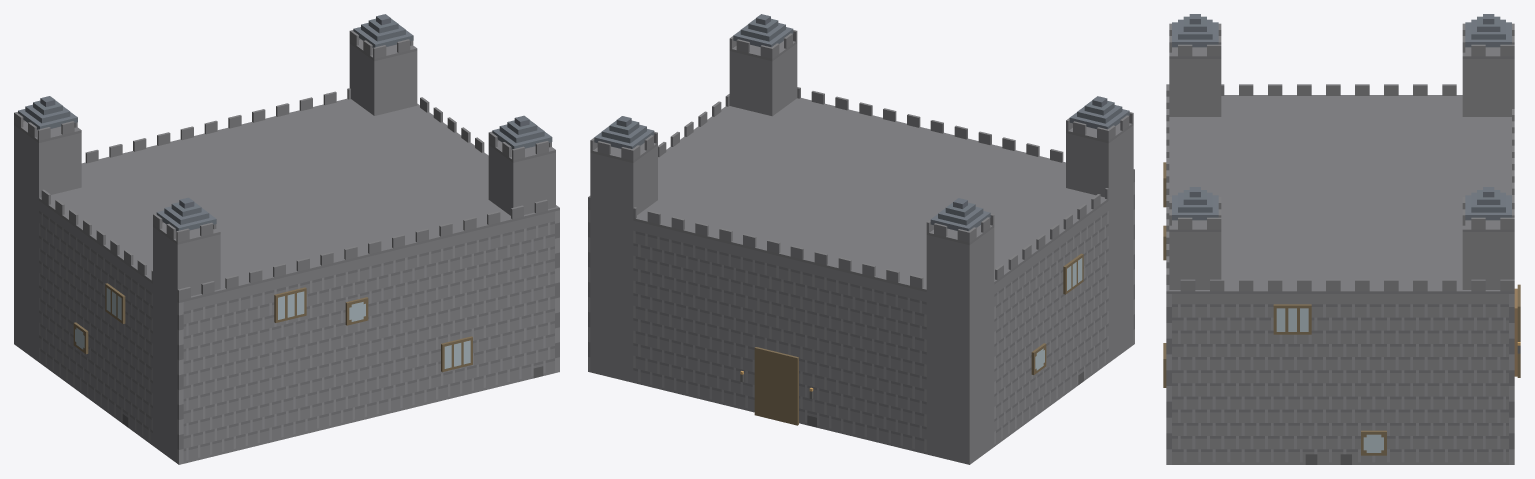
File: castillo_02.glb
3 renders of one model, left to right at view 1: azimuth 30°, elevation 25°; view 2: azimuth 150°, elevation 25°; view 3: azimuth 270°, elevation 25°, orthographic. The views are drawn at different scales.
Visible parts, largest first — view 1: castillo_02; view 2: castillo_02; view 3: castillo_02.
Part boxes in pixels (x1=…): castillo_02: x1=14, y1=14, x2=559, y2=464; castillo_02: x1=588, y1=14, x2=1134, y2=464; castillo_02: x1=1163, y1=14, x2=1520, y2=464.
Bounding box in the file's own units: 16.2 × 10 × 12.3.
